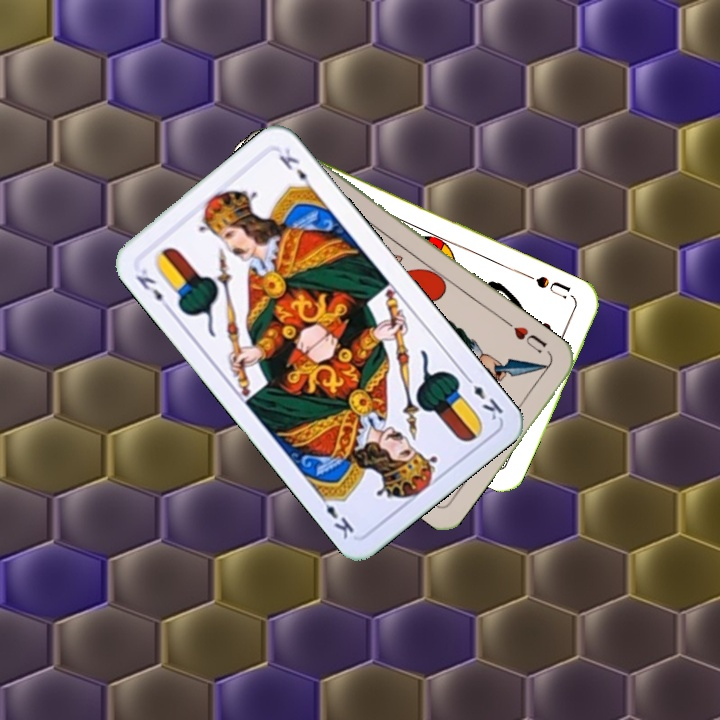EK: (460, 370, 506, 423), (131, 265, 174, 314)
HU: (502, 317, 550, 357)
SU: (531, 272, 573, 302)
